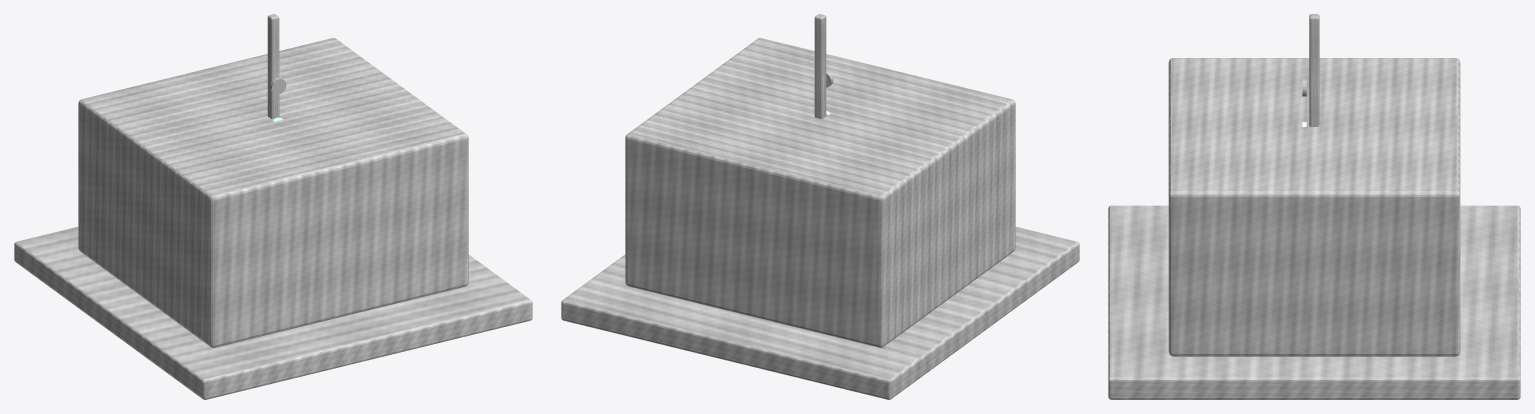
Rendered from train-signals_variant_a.glb.
3 views of the same model, side by side, from view 1: azimuth 30°, elevation 25°; view 2: azimuth 150°, elevation 25°; view 3: azimuth 270°, elevation 25° (orthographic). The views are drawn at different scales.
Visible parts, largest first — view 1: Equipment body, Foundation, Signal mast; view 2: Equipment body, Foundation, Signal mast; view 3: Equipment body, Foundation, Signal mast.
Boxes of the visible parts, x1,y1,x2,y2 form: Equipment body: [78, 38, 468, 347]; Foundation: [14, 227, 532, 399]; Signal mast: [267, 14, 279, 118]; Equipment body: [625, 38, 1015, 347]; Foundation: [561, 227, 1079, 399]; Signal mast: [814, 14, 826, 118]; Equipment body: [1168, 58, 1460, 356]; Foundation: [1108, 205, 1520, 399]; Signal mast: [1309, 14, 1319, 126].
Size of what is drawn, in the model's own units: 7.36 by 5.88 by 7.36.
5 materials, 5 textured.
